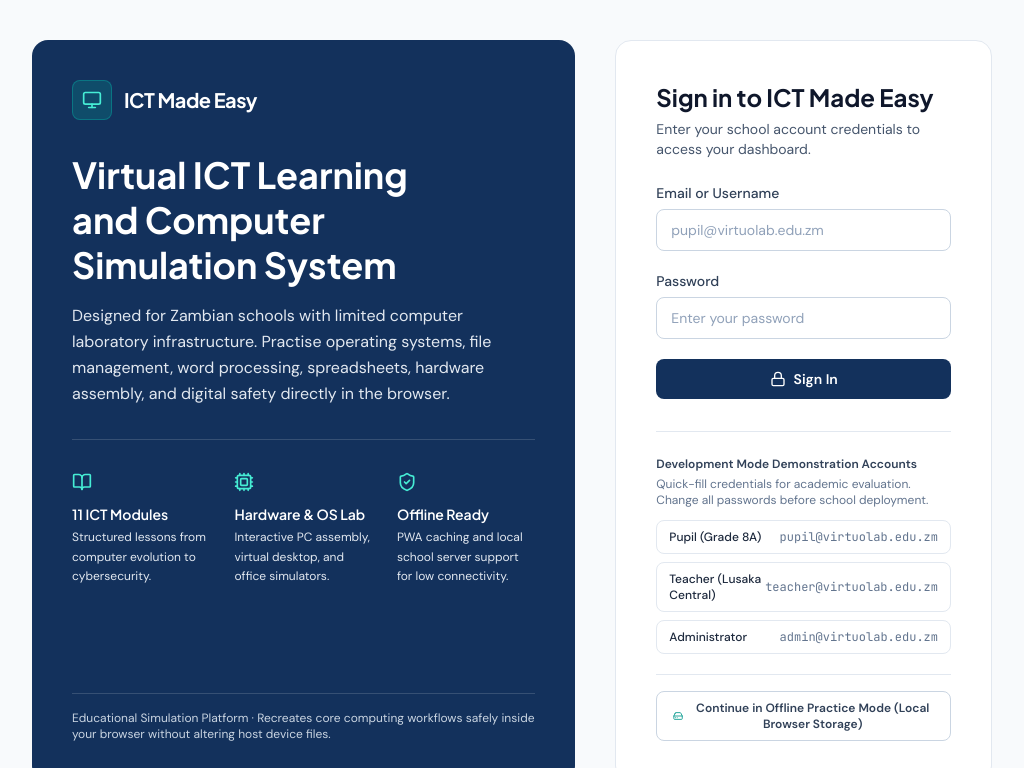
Test case: ICT Made Easy UI Component Tests › renders LoginPage with sign-in form and demo account quick-fill controls
Expected: the heading "Sign in to ICT Made Easy" is shown, [656,81,951,113]
Expected: the field labelled "Email or Username" is shown, [656,209,951,251]
Click the text "Pupil (Grade 8A)" at (715, 537), box [669,529,761,545]
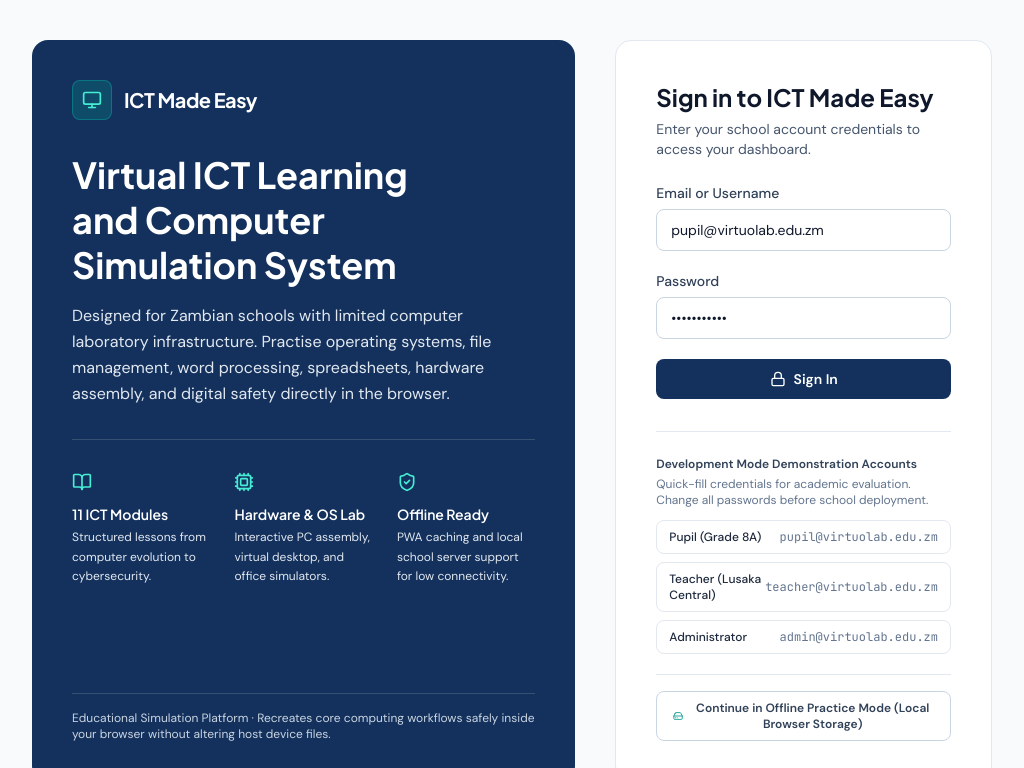
Expected: the field labelled "Email or Username" holds "pupil@virtuolab.edu.zm", [656,209,951,251]
